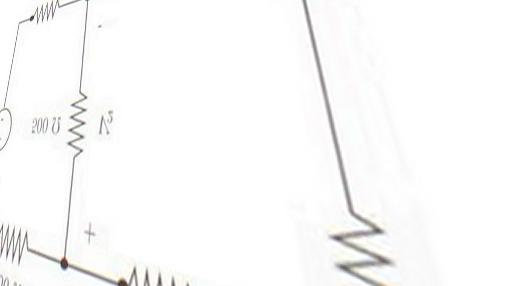resistor: (319, 198, 394, 283), (58, 76, 104, 158), (119, 252, 200, 283), (64, 84, 94, 154), (1, 213, 42, 255), (16, 0, 67, 13)
